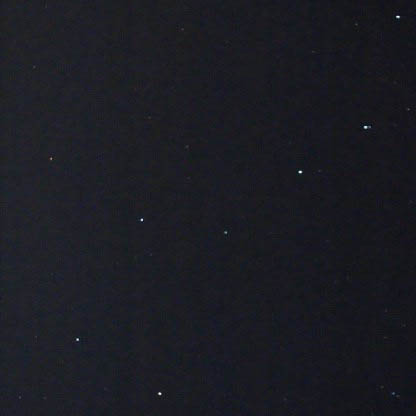Ursa Major: (354, 115, 376, 140), (129, 207, 152, 229), (291, 160, 313, 183), (218, 218, 236, 243), (148, 384, 169, 403), (391, 11, 409, 33), (69, 328, 86, 345)
